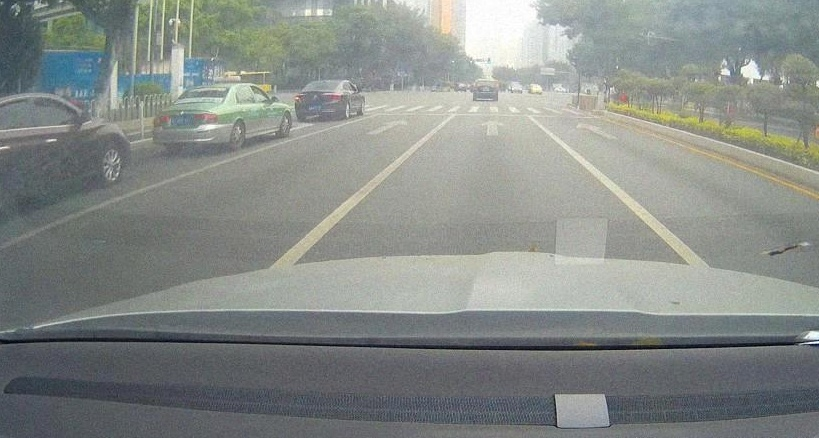L_light: (153, 114, 169, 126), (294, 94, 306, 102)
R_light: (194, 112, 218, 123), (323, 93, 341, 101)
T_light: (200, 88, 209, 91), (322, 82, 328, 85)
day-no: (153, 83, 230, 154)
night-left: (294, 79, 342, 120)
